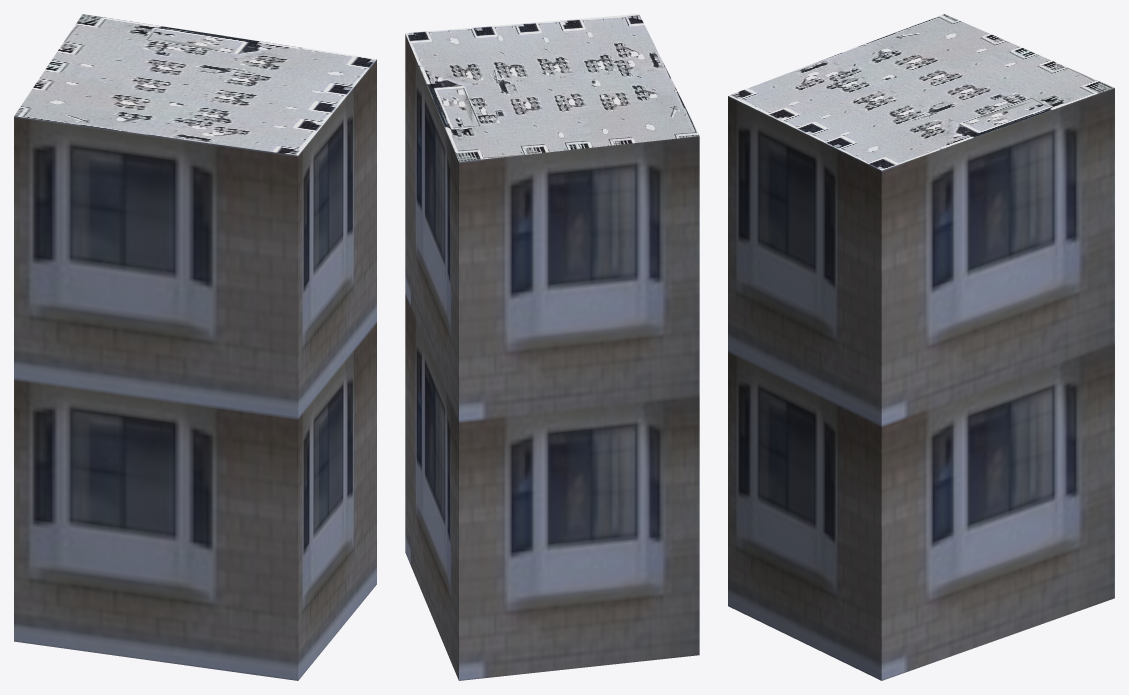
Rendered from ResTex__4778.fbx.
The picture shows the model from 3 angles, left to right: view 1: azimuth 30°, elevation 25°; view 2: azimuth 150°, elevation 25°; view 3: azimuth 270°, elevation 25°; orthographic projection. The views are drawn at different scales.
Parts seen in each view (by area): view 1: CityEngineMaterial_3_m, CityEngineMaterial_4_m; view 2: CityEngineMaterial_3_m, CityEngineMaterial_4_m; view 3: CityEngineMaterial_3_m, CityEngineMaterial_4_m.
Boxes of the visible parts, <box> form: CityEngineMaterial_3_m: <box>14,59,376,680</box>; CityEngineMaterial_4_m: <box>14,14,376,155</box>; CityEngineMaterial_3_m: <box>405,34,699,680</box>; CityEngineMaterial_4_m: <box>405,14,699,161</box>; CityEngineMaterial_3_m: <box>728,88,1114,680</box>; CityEngineMaterial_4_m: <box>728,14,1114,170</box>.
Bounding box in the file's own units: 3.95 × 6 × 4.12.
Materials: 2 (2 with a texture image).
